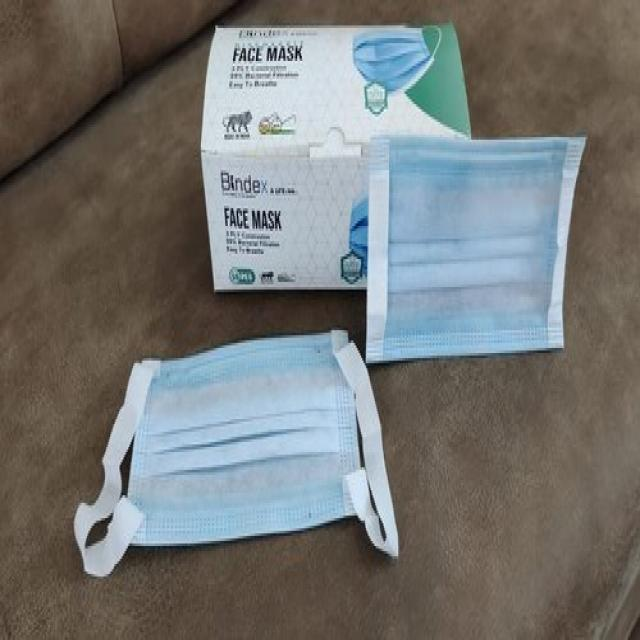non-organic waste: (83, 335, 400, 569), (367, 134, 589, 366)
